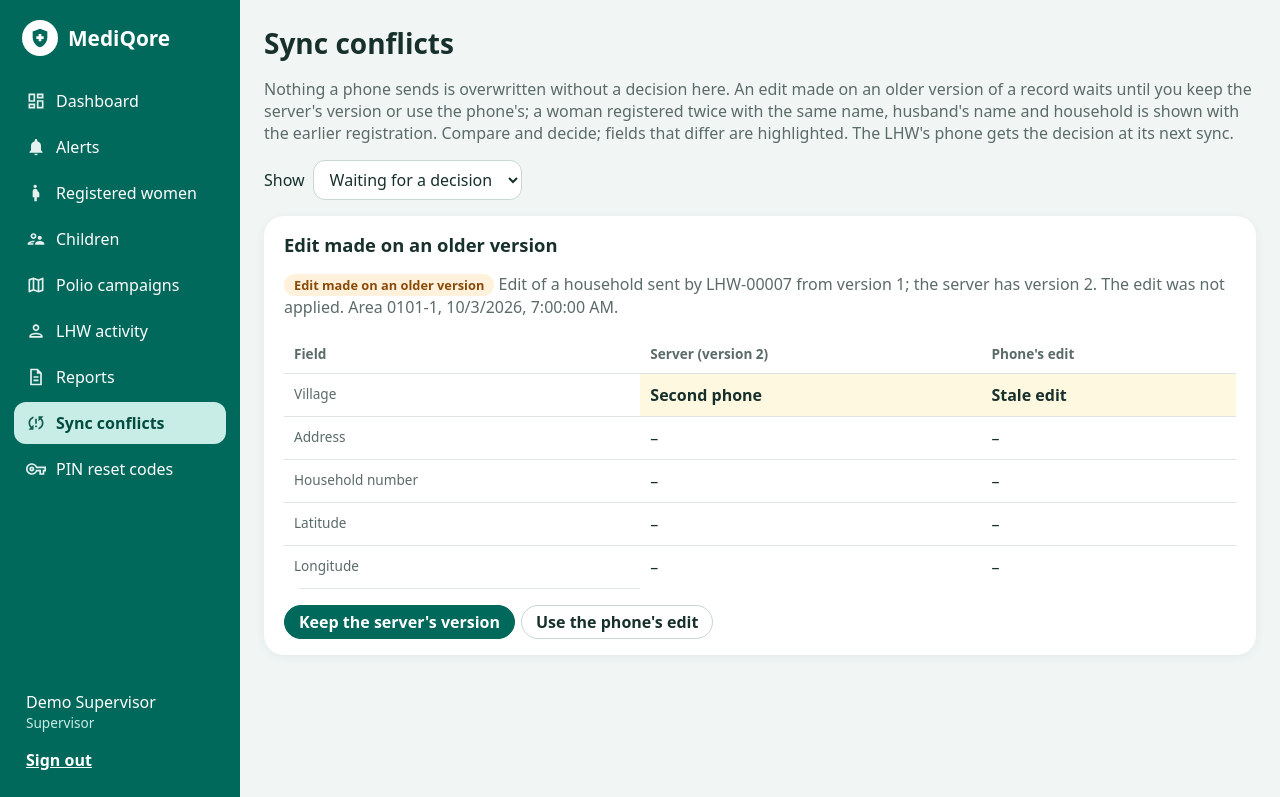
sync conflict queue (M3 FE-2, M10) › an edit made on an older version: compares the server with the phone and sends keep_server or use_device
Click the button "Use the phone's edit" at [617, 622], box [521,604,713,638]
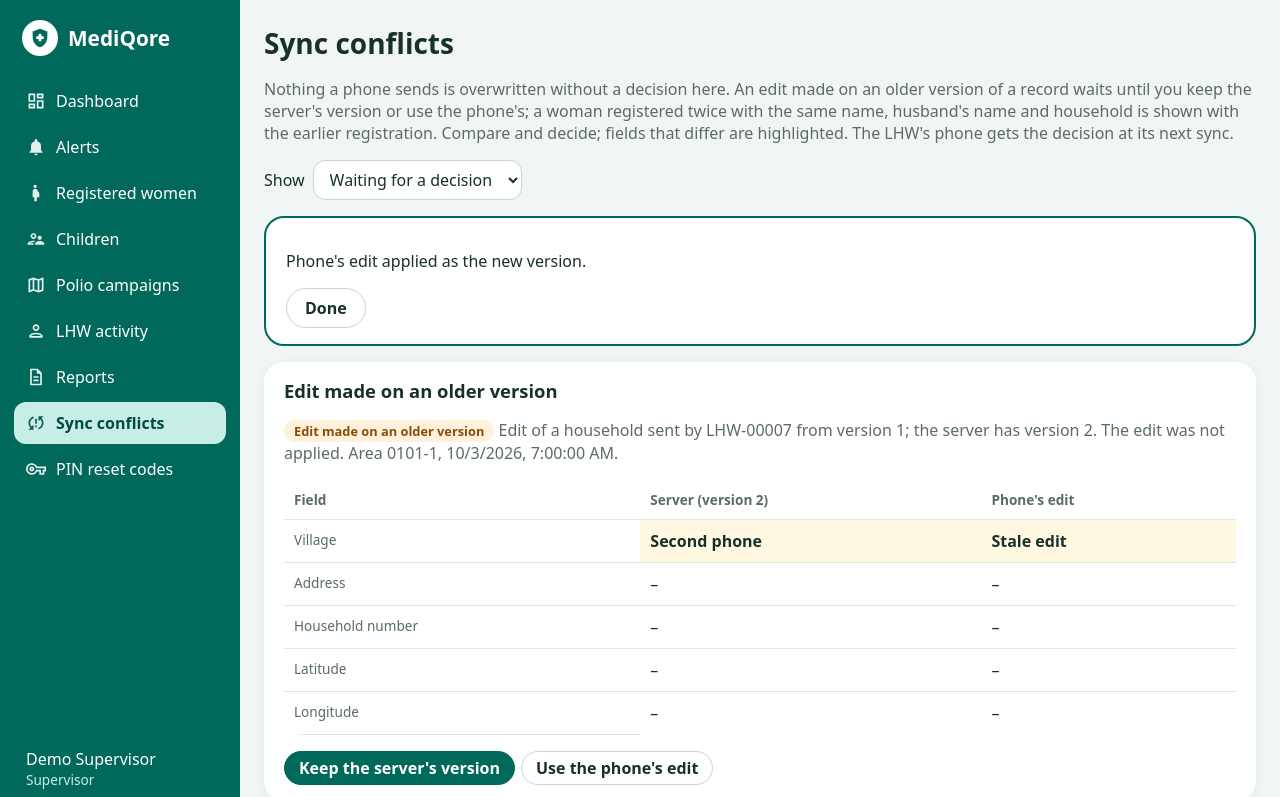
Expected: the element named "Decision saved" shows "Phone's edit applied as the new version", [286,250,582,272]
